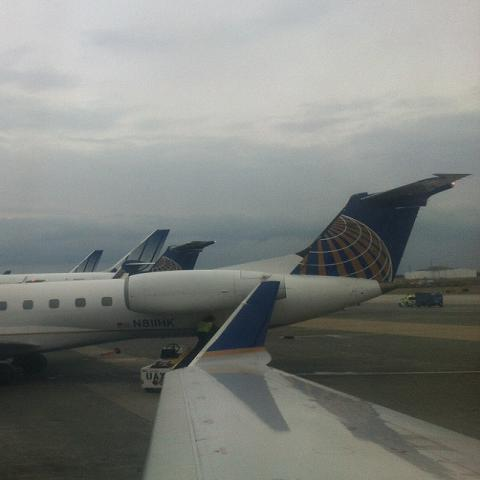truck: (140, 343, 184, 393), (398, 291, 444, 308)
